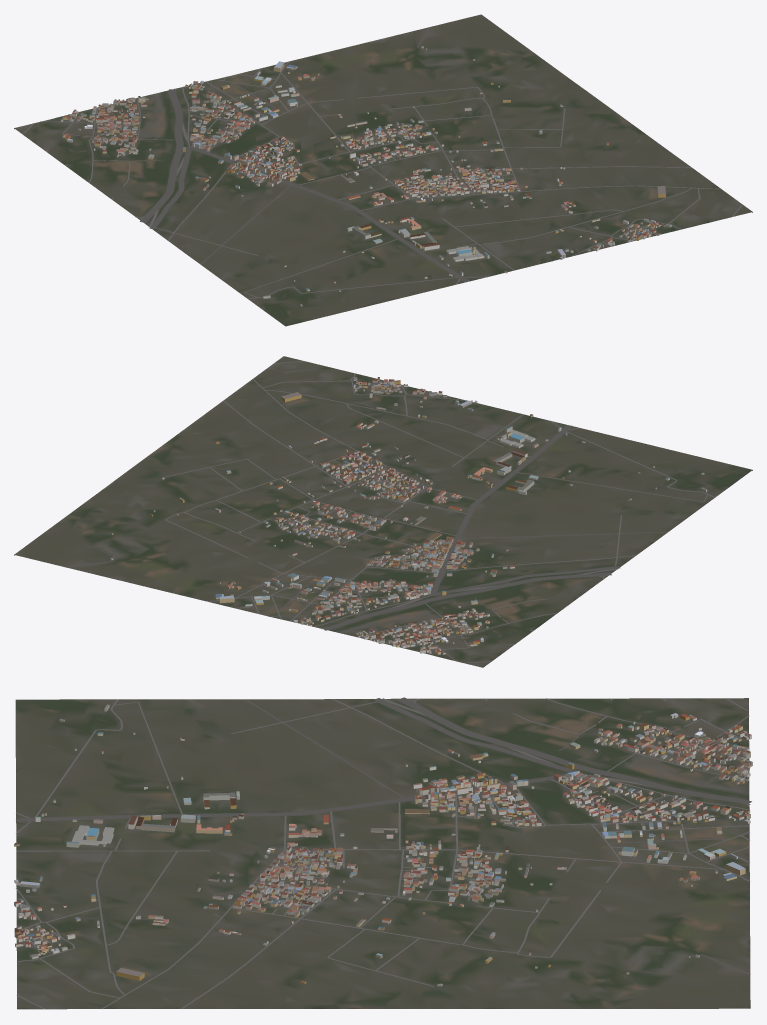
3 views of the same model, one above another, from view 1: azimuth 30°, elevation 25°; view 2: azimuth 150°, elevation 25°; view 3: azimuth 270°, elevation 25° (orthographic). The views are drawn at different scales.
Parts seen in each view (by area): view 1: ground, buildings, roads; view 2: ground, buildings, roads; view 3: ground, buildings, roads.
Boxes of the visible parts, x1,y1,x2,y2 form: ground: (14, 14, 752, 326); buildings: (61, 46, 671, 306); roads: (22, 27, 742, 298); ground: (14, 356, 752, 667); buildings: (110, 377, 707, 654); roads: (65, 361, 715, 663); ground: (15, 698, 750, 1009); buildings: (14, 704, 752, 986); roads: (16, 697, 751, 1009).
Size of the model in its own units: 1409 by 18.56 by 1412.
